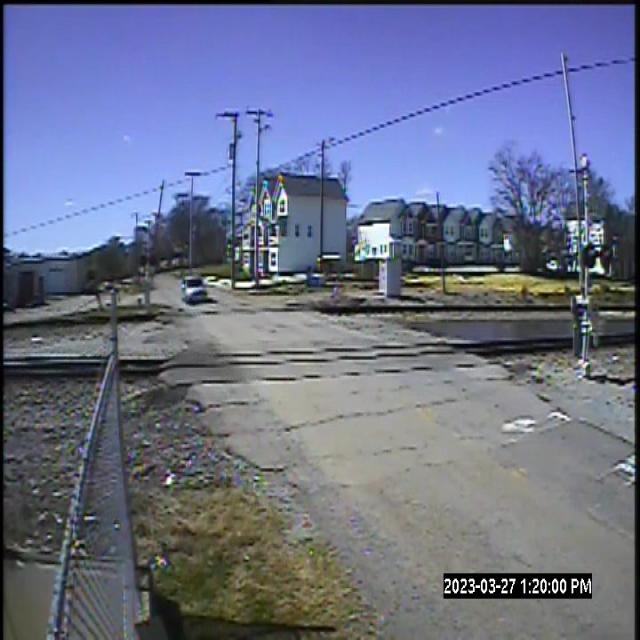barrier: (554, 45, 595, 242), (147, 174, 176, 253)
car: (177, 265, 210, 307)
rails: (3, 327, 640, 384), (2, 292, 636, 340)
traffic-signal: (575, 238, 623, 380), (138, 251, 160, 320)
